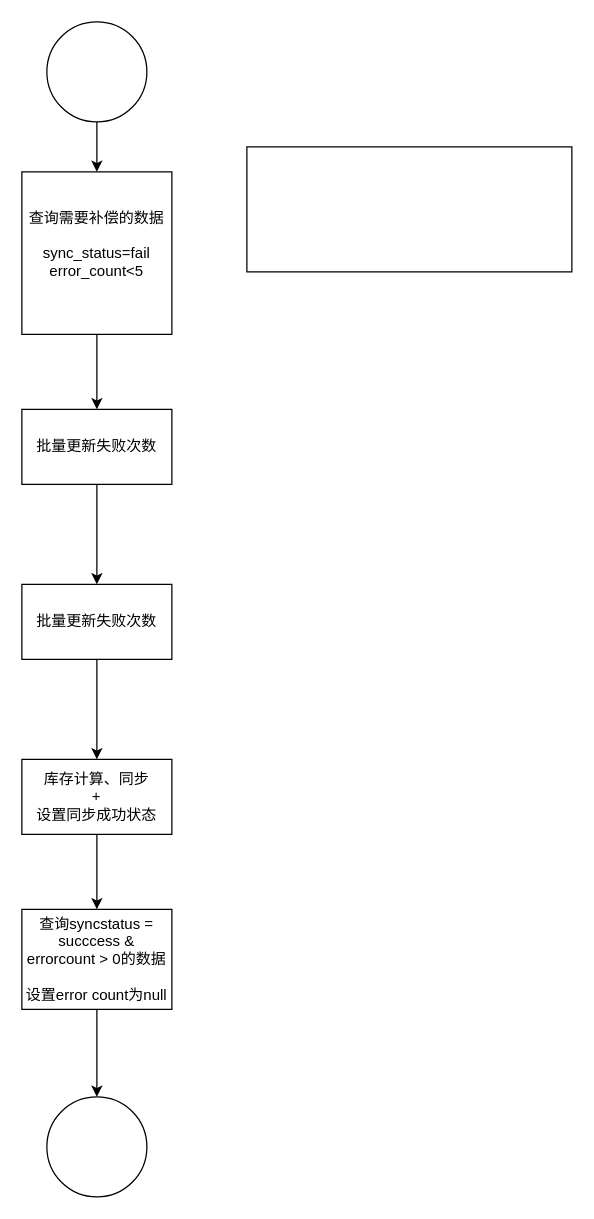
Image size: 594x1219. Some labels were removed from this diagram. Each missing label, with the centre of its shape:
"2^1 * 300 = 600s = 10min 2^2 * 300 = 10min*2 2^3 * 300 2^4 * 300" goes at [409,209].
"开始" goes at [96,71].
"结束" goes at [96,1146].
